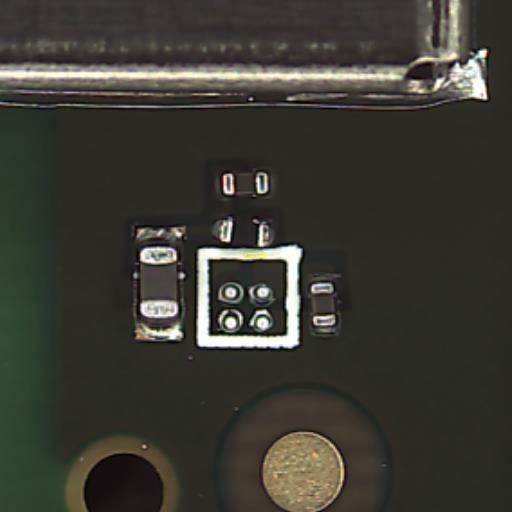bottom_layer: (135, 225, 186, 340), (308, 274, 341, 337), (211, 218, 277, 248), (214, 170, 278, 199)
top_layer: (139, 247, 178, 317), (214, 221, 268, 245), (223, 170, 268, 194), (311, 283, 336, 326)
